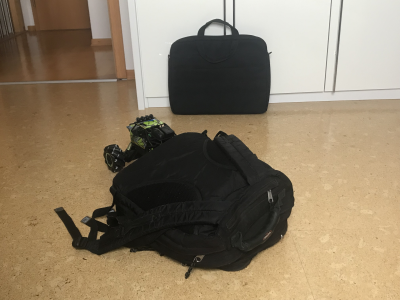remote control car: (98, 114, 184, 173)
